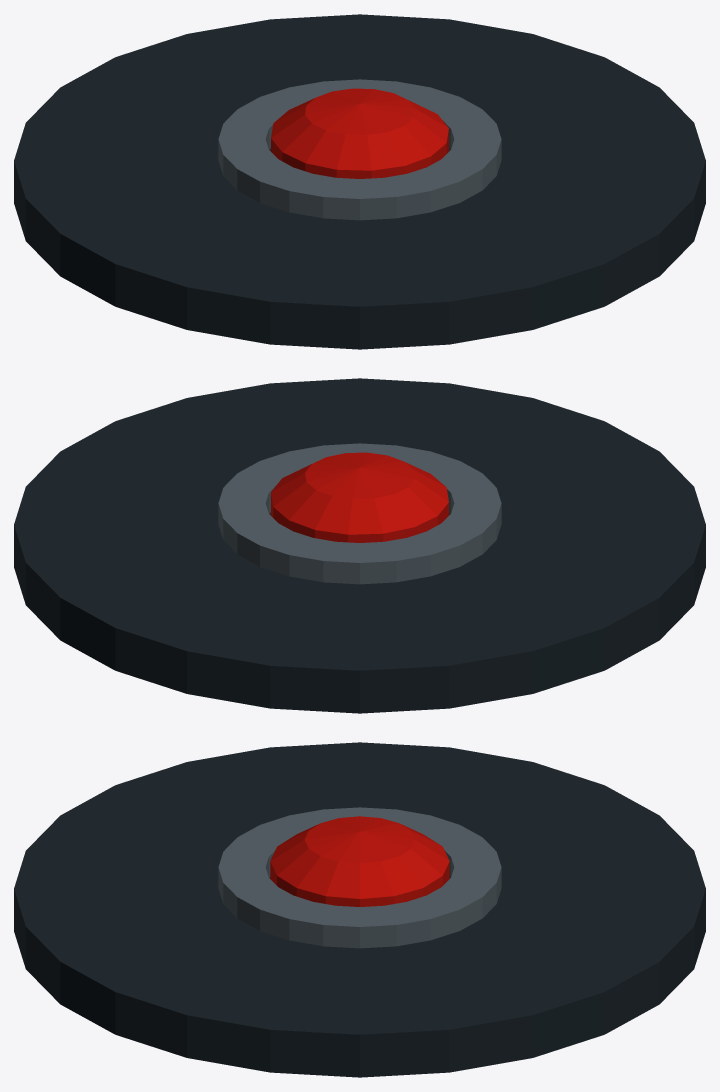
File: beacon2.glb
3 renders of one model, top to bottom at view 1: azimuth 30°, elevation 25°; view 2: azimuth 150°, elevation 25°; view 3: azimuth 270°, elevation 25°, orthographic.
Parts seen in each view (by area): view 1: beacon2; view 2: beacon2; view 3: beacon2.
Boxes of the visible parts, left/top/right/bottom form: beacon2: left=14, top=14, right=705, bottom=349; beacon2: left=14, top=378, right=705, bottom=713; beacon2: left=14, top=742, right=705, bottom=1077.
Bounding box in the file's own units: 44 × 7 × 44.
